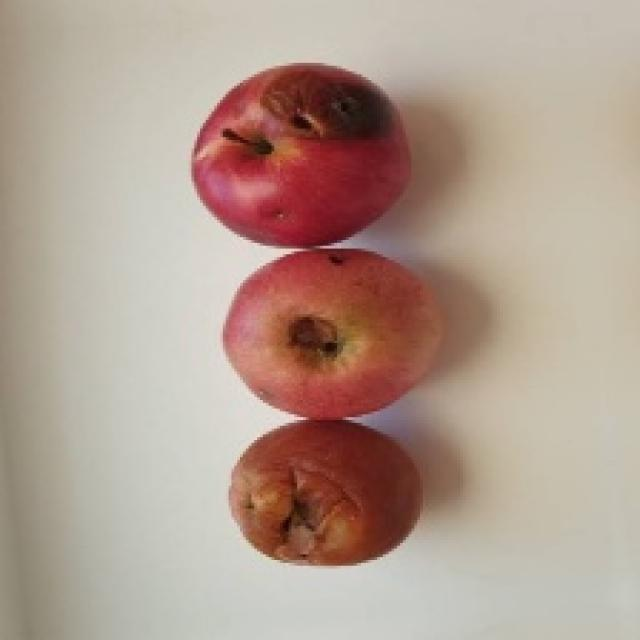apple: (192, 63, 409, 247), (223, 249, 443, 419), (229, 421, 419, 565)
